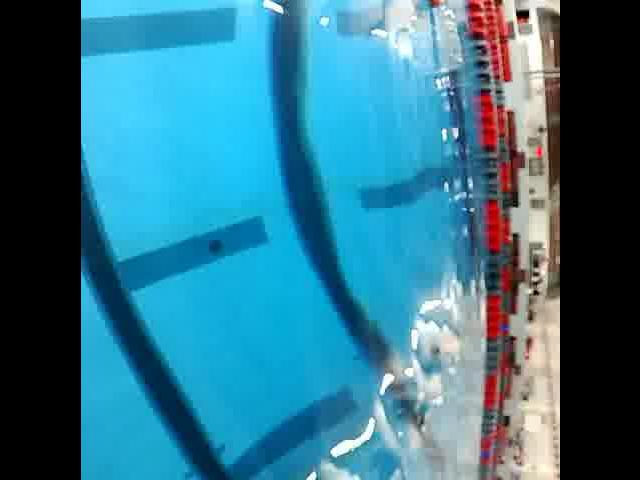Bottle: (422, 0, 464, 79)
